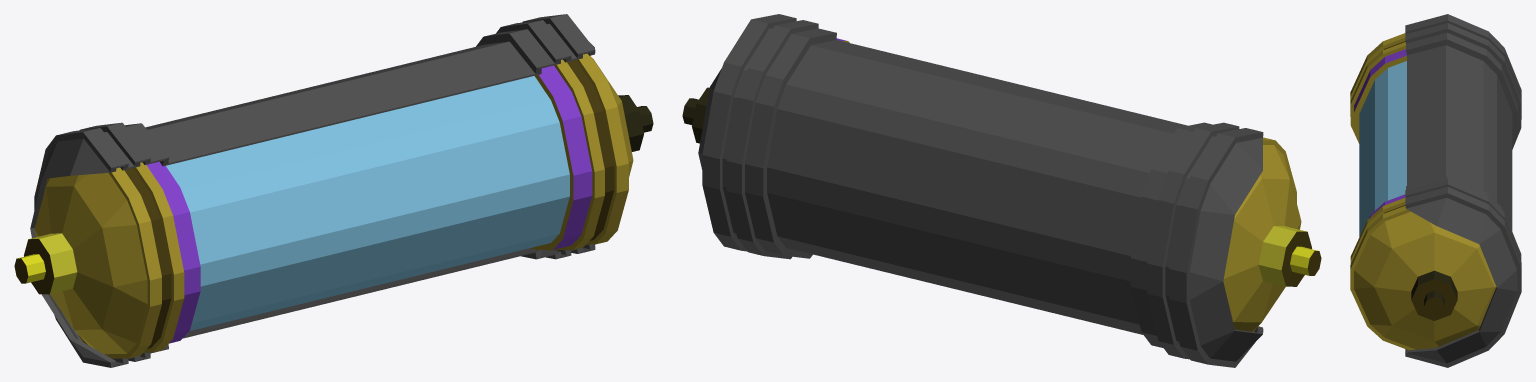
The model's file is ArcaneConductorMatrix.fbx.
The picture shows the model from 3 angles, left to right: view 1: azimuth 30°, elevation 25°; view 2: azimuth 150°, elevation 25°; view 3: azimuth 270°, elevation 25°; orthographic projection. The views are drawn at different scales.
Parts seen in each view (by area): view 1: ArcaneConductorMatrix, ArcaneConductorMatrixShell; view 2: ArcaneConductorMatrixShell, ArcaneConductorMatrix; view 3: ArcaneConductorMatrixShell, ArcaneConductorMatrix.
Part boxes in pixels (x1,y1,x2,y2): ArcaneConductorMatrix: (14, 53, 653, 358); ArcaneConductorMatrixShell: (30, 14, 595, 367); ArcaneConductorMatrixShell: (698, 14, 1263, 367); ArcaneConductorMatrix: (682, 38, 1321, 331); ArcaneConductorMatrixShell: (1405, 14, 1521, 367); ArcaneConductorMatrix: (1350, 33, 1496, 350).
Size of the model in its own units: 81.23 by 28.61 by 25.39.
